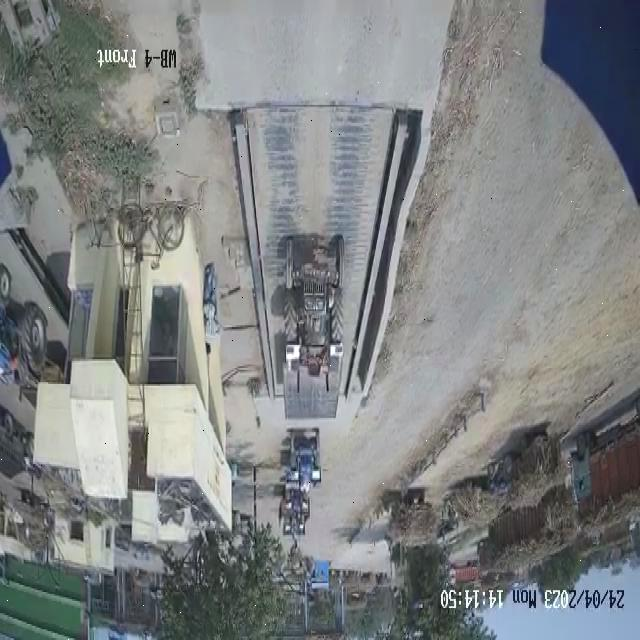Tratores - v5 YOLO V8L 2024-11-13: (276, 224, 356, 370), (0, 270, 40, 402), (278, 427, 328, 491), (278, 494, 311, 545)
